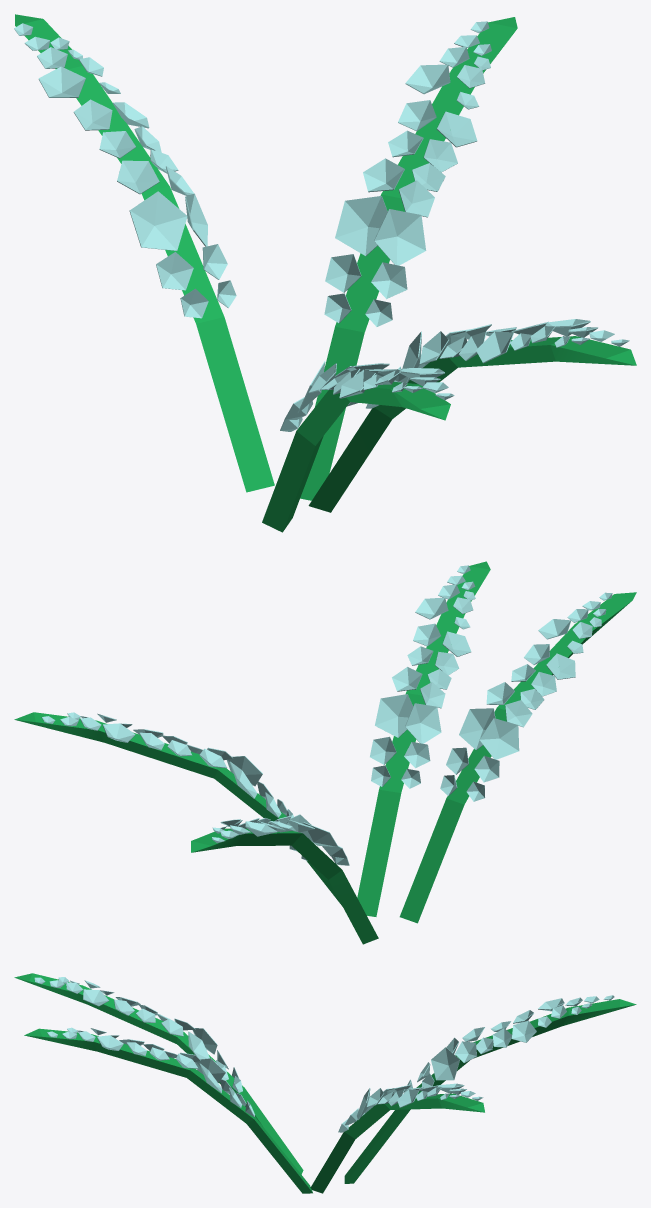
File: Plant_c_02.fbx
3 views of the same model, one above another, from view 1: azimuth 30°, elevation 25°; view 2: azimuth 150°, elevation 25°; view 3: azimuth 270°, elevation 25° (orthographic). The views are drawn at different scales.
Visible parts, largest first — view 1: Plant_c_02_LOD0; view 2: Plant_c_02_LOD0; view 3: Plant_c_02_LOD0.
Part boxes in pixels (x1,y1,x2,y2): Plant_c_02_LOD0: (14,14,636,532); Plant_c_02_LOD0: (14,561,636,944); Plant_c_02_LOD0: (14,973,636,1193).
Size of what is drawn, in the model's own units: 6.38 by 3.95 by 12.15.
